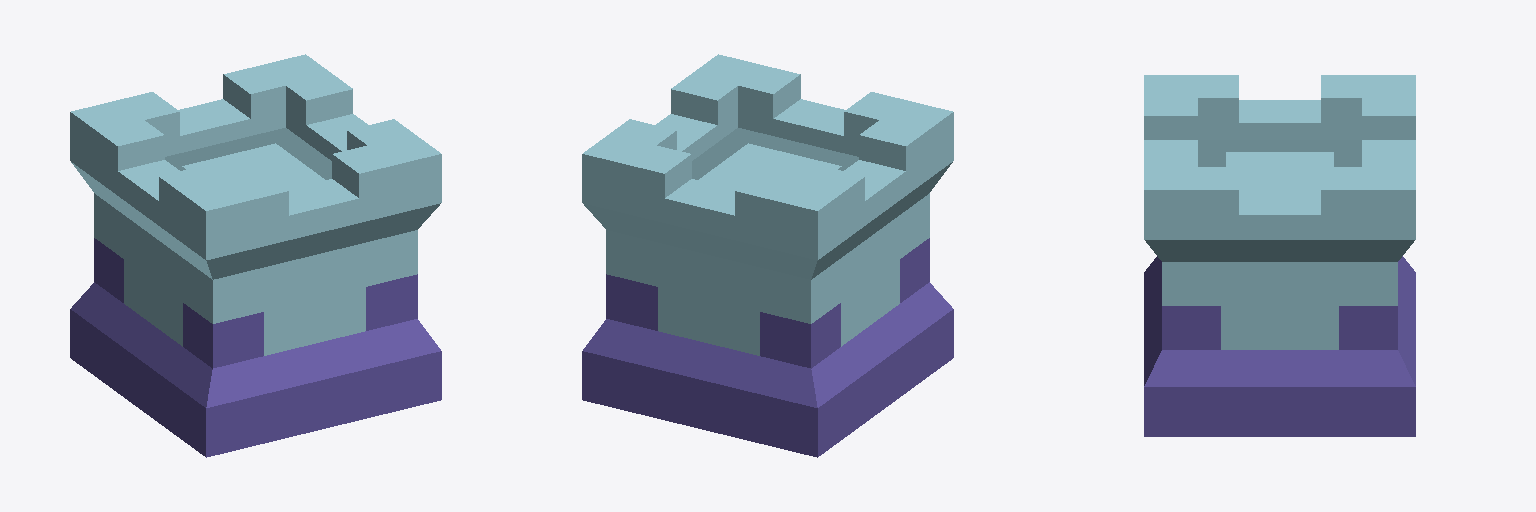
Rendered from tile_tower_ballista.obj.
The picture shows the model from 3 angles: view 1: azimuth 30°, elevation 25°; view 2: azimuth 150°, elevation 25°; view 3: azimuth 270°, elevation 25°; orthographic projection.
Visible parts, largest first — view 1: towerSquare_sampleF; view 2: towerSquare_sampleF; view 3: towerSquare_sampleF.
Part boxes in pixels (x1,y1,x2,y2): towerSquare_sampleF: (70, 54, 441, 457); towerSquare_sampleF: (582, 54, 953, 457); towerSquare_sampleF: (1144, 75, 1415, 436).
Size of the model in its own units: 1 by 1 by 1.